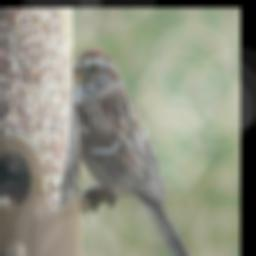Sparrow: (74, 45, 203, 256)
